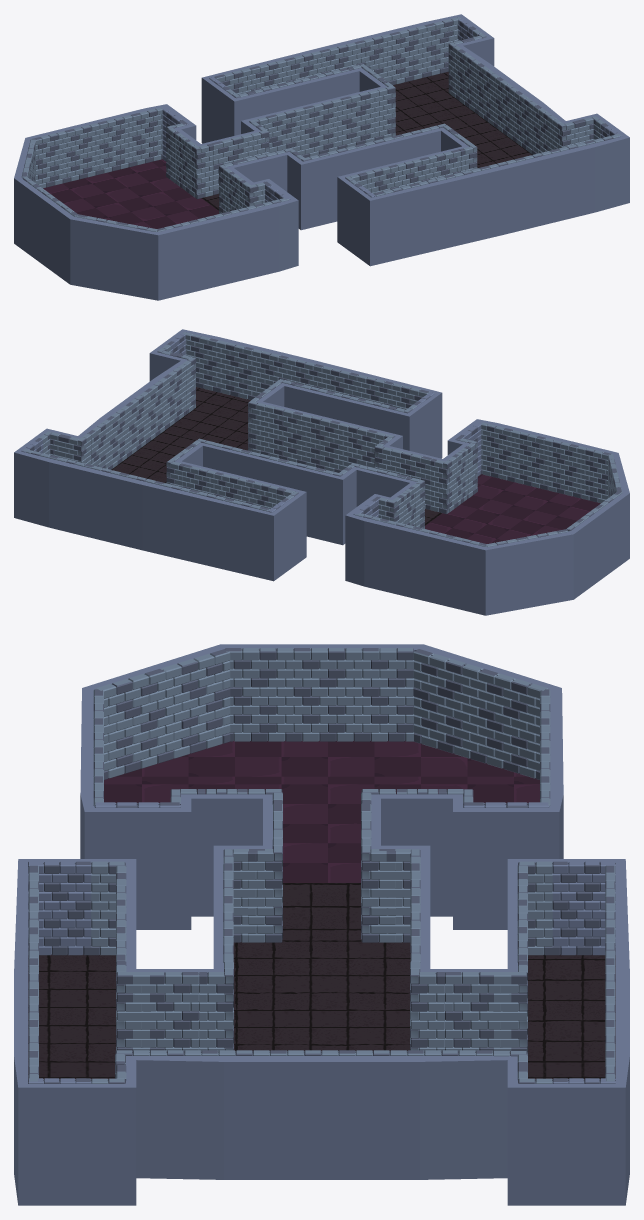
File: Start (3).fbx
The picture shows the model from 3 angles, top to bottom: view 1: azimuth 30°, elevation 25°; view 2: azimuth 150°, elevation 25°; view 3: azimuth 270°, elevation 25°; orthographic projection. The views are drawn at different scales.
Parts seen in each view (by area): view 1: brick wall.019; view 2: brick wall.019; view 3: brick wall.019.
Boxes of the visible parts, <box> form: brick wall.019: <box>14,14,629,300</box>; brick wall.019: <box>14,329,629,615</box>; brick wall.019: <box>14,644,629,1205</box>.
Size of the model in its own units: 3222 by 406 by 1892.
26 materials, 2 textured.
